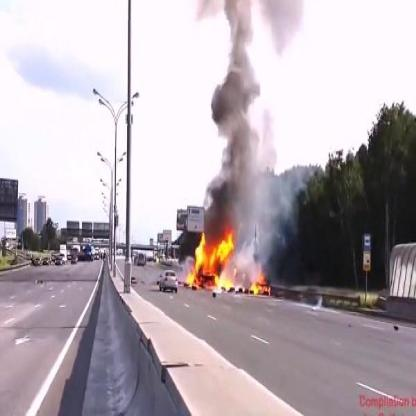fire: (186, 229, 242, 292), (247, 271, 273, 297)
